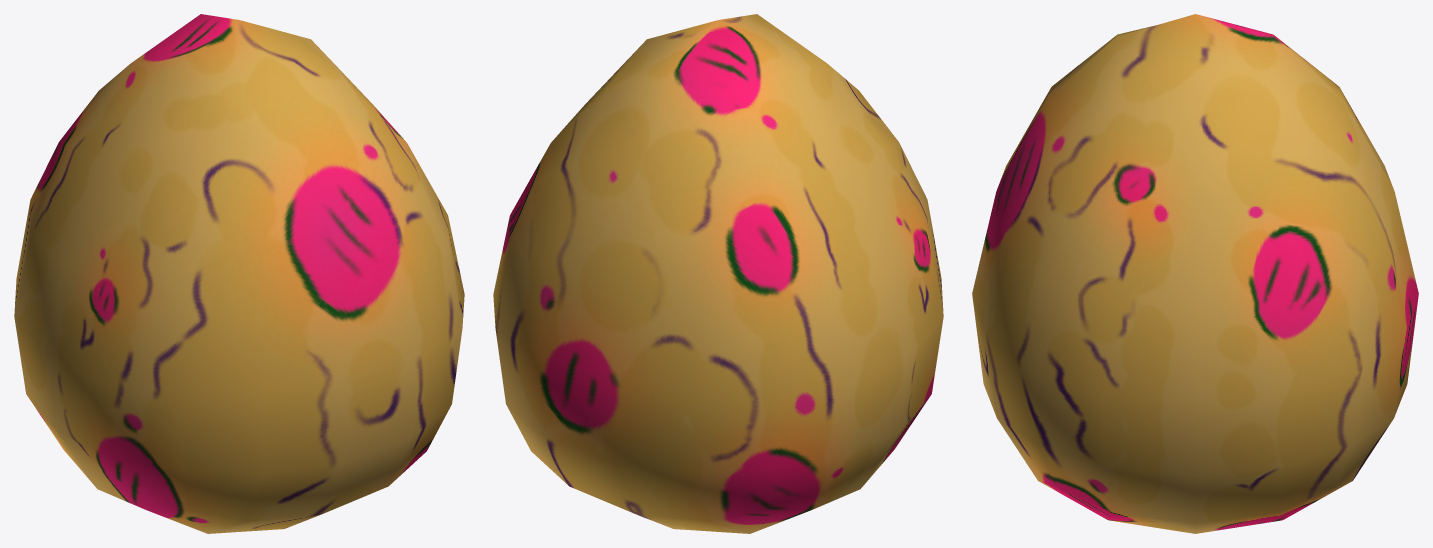
File: Egg.fbx
3 renders of one model, left to right at view 1: azimuth 30°, elevation 25°; view 2: azimuth 150°, elevation 25°; view 3: azimuth 270°, elevation 25°, orthographic.
Parts seen in each view (by area): view 1: Egg; view 2: Egg; view 3: Egg.
Part boxes in pixels (left/top/right/bottom): Egg: left=14, top=14, right=464, bottom=533; Egg: left=493, top=14, right=943, bottom=533; Egg: left=972, top=14, right=1418, bottom=533.
Bounding box in the file's own units: 3.69 × 4.48 × 3.66.
